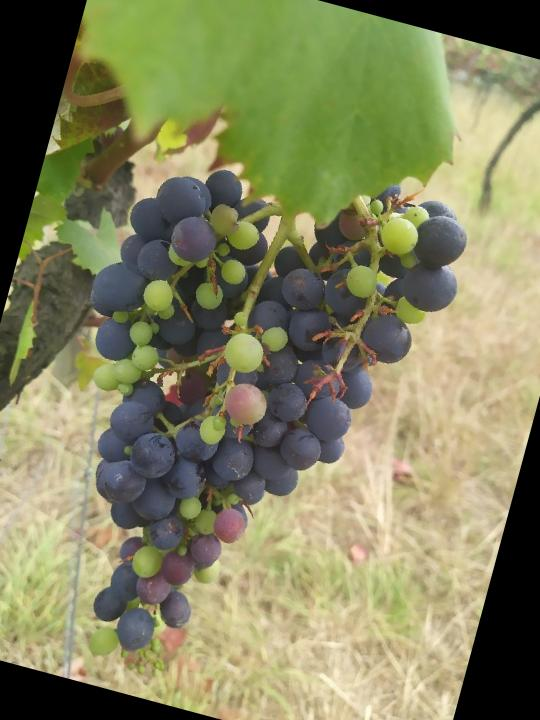grape: (0, 107, 485, 720)
